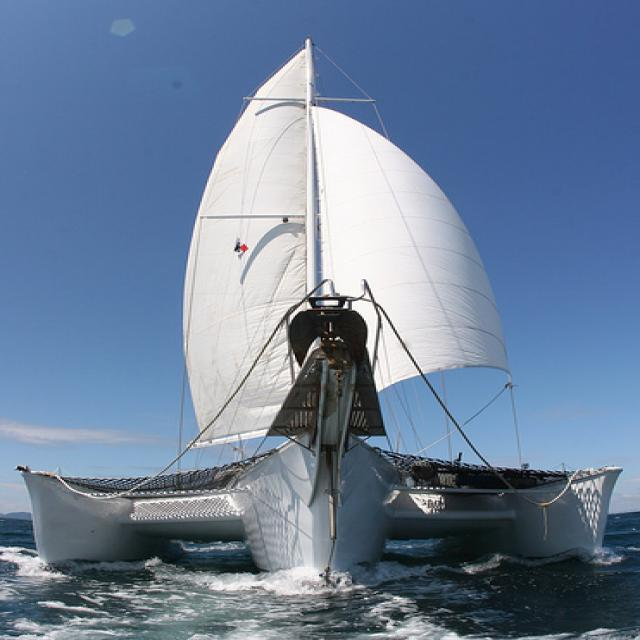Ship: (30, 51, 629, 589)
